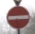No entry: (5, 5, 29, 29)
